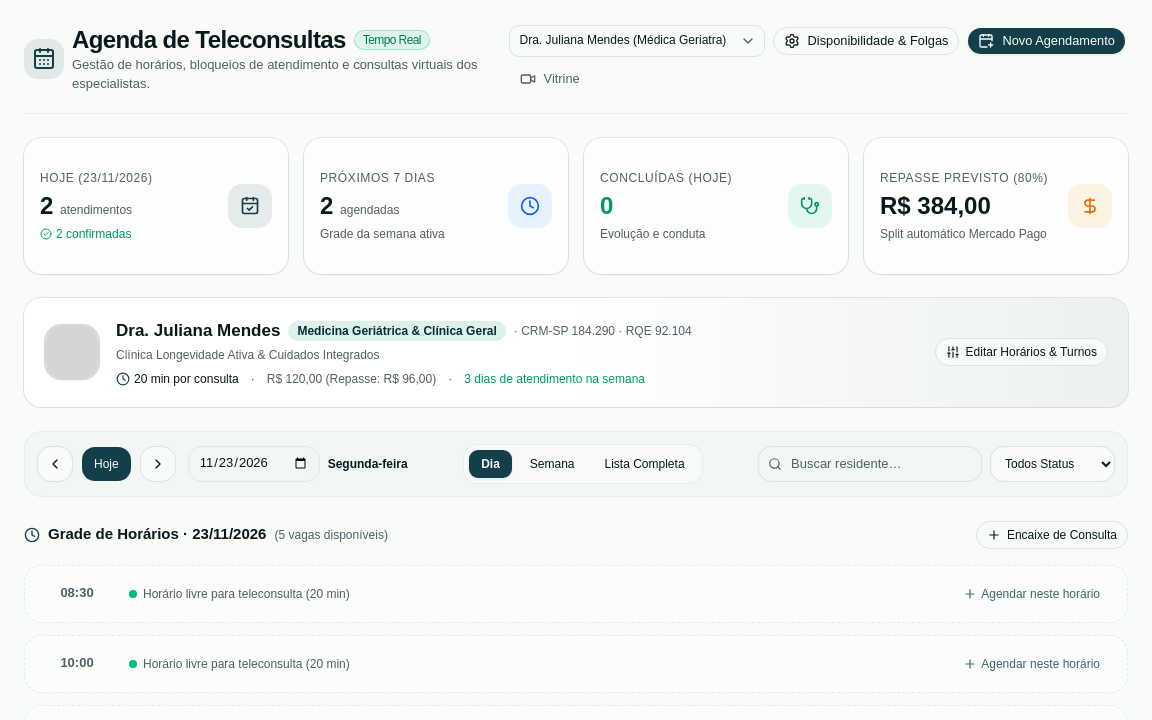
Scenario: AgendaTeleconsulta Page › permite abrir o modal de novo agendamento e marcar consulta diretamente na agenda
Later steps or results of the test are not shown.
Click the button "Novo Agendamento" at (1047, 41), box [967,27,1126,55]
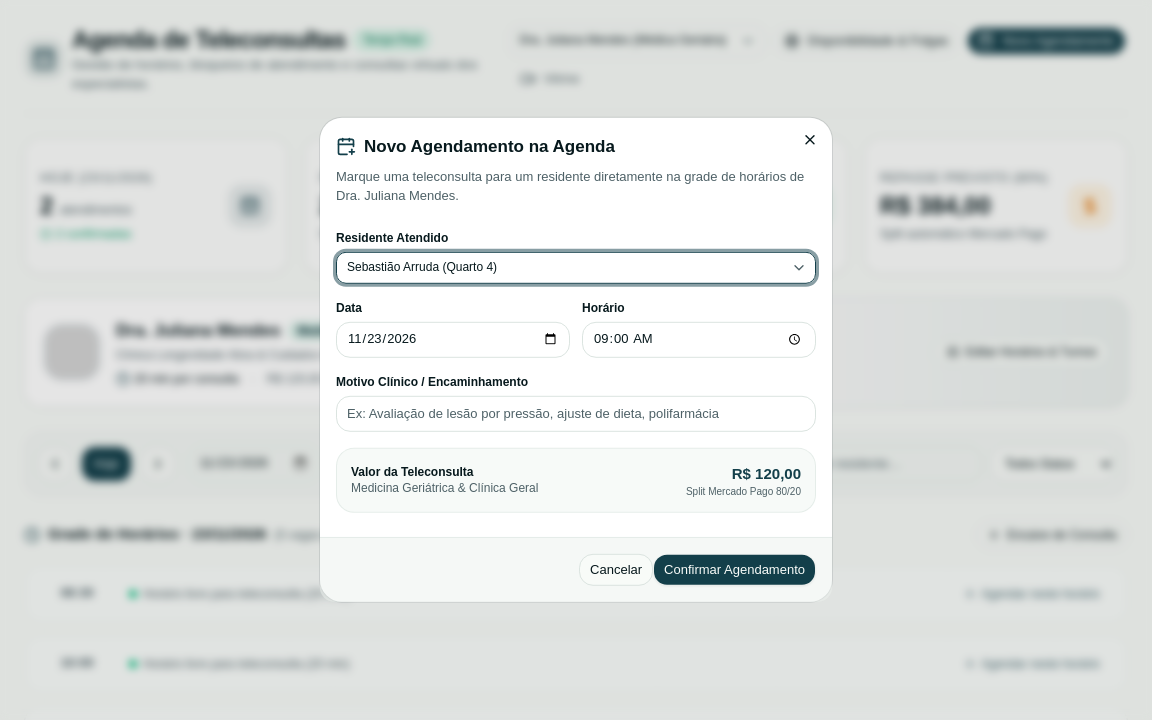
Result: the heading "Novo Agendamento na Agenda" is shown at [336,137,615,157]
Result: the text "Residente Atendido" is shown at [336,230,448,244]
